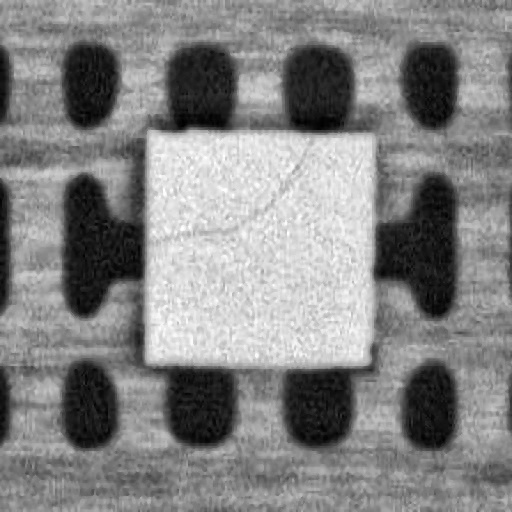DIE_CRACK: (145, 132, 312, 242)
